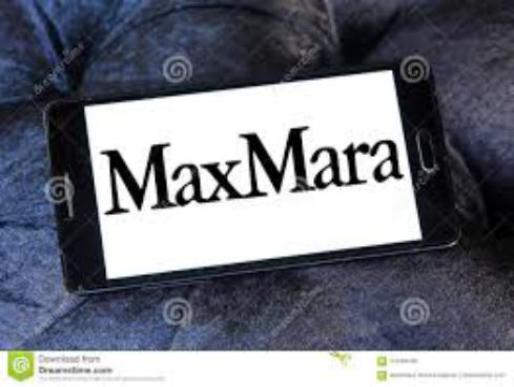MAX-MARA: (96, 123, 406, 212)
